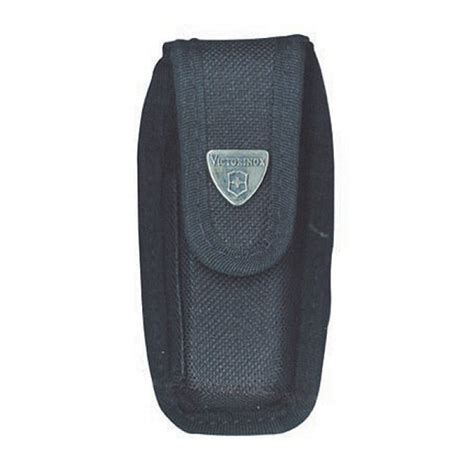nylon: (137, 34, 337, 436)
